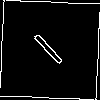I: (24, 24, 66, 67)
